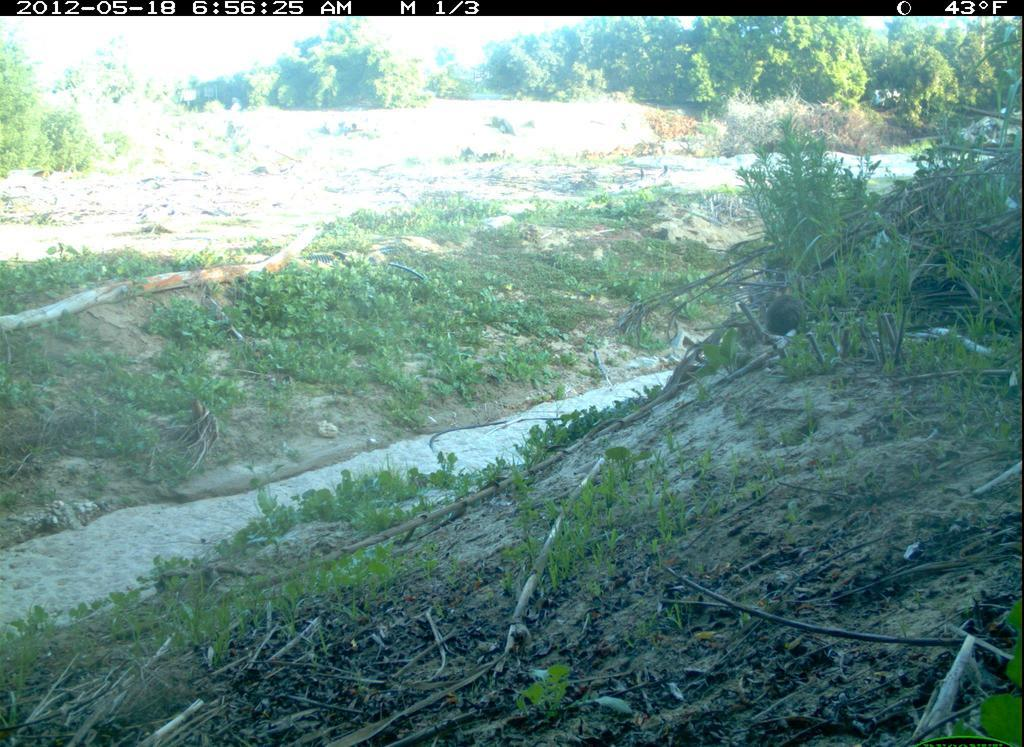rabbit: (757, 285, 811, 353)
